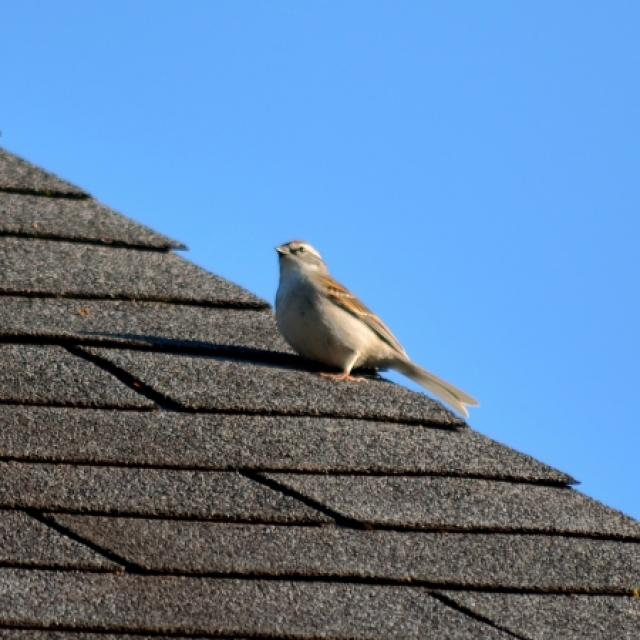bird: (270, 239, 482, 418)
